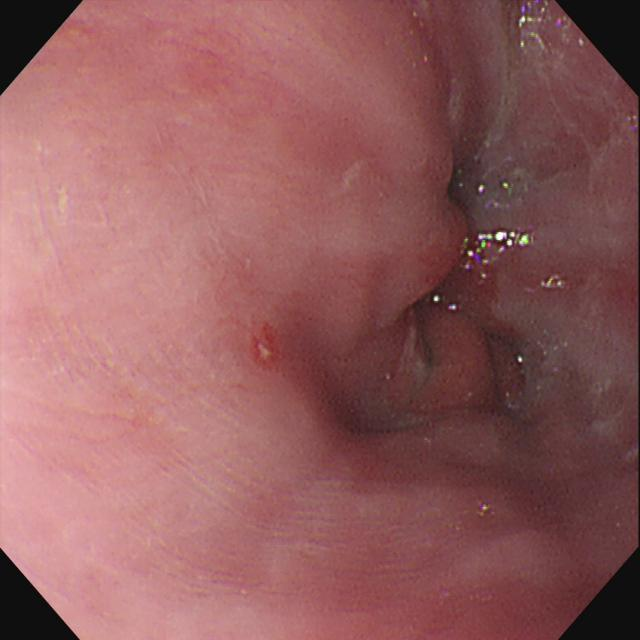A: (252, 325, 282, 373)
U: (465, 231, 535, 268)
